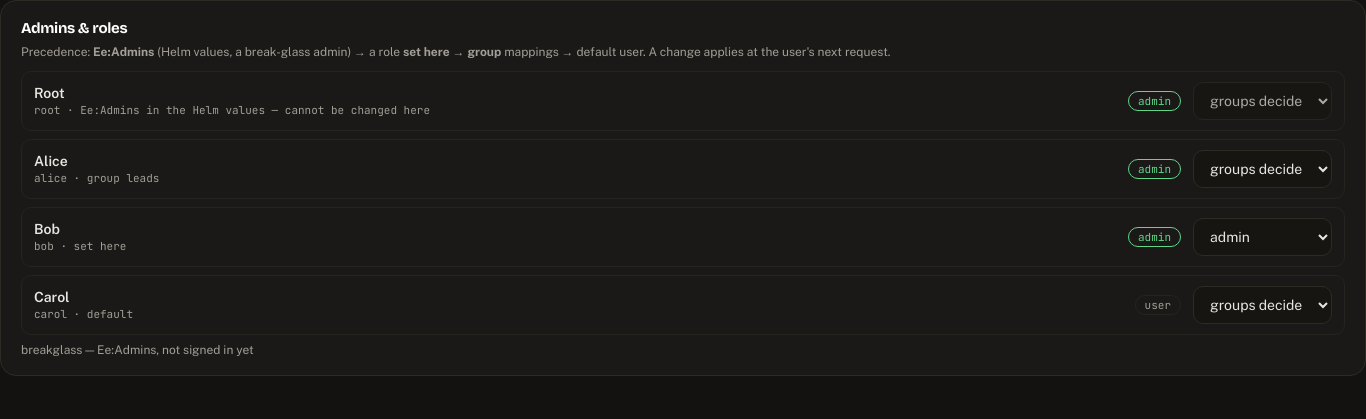
Test: UserRolesCard › makes a user an admin and shows the audit entry
The width and height of the screenshot is (1366, 419).
Select "admin" in the dropdown in the row of "carol · default". click: (1262, 305)
box: [1193,286,1332,324]
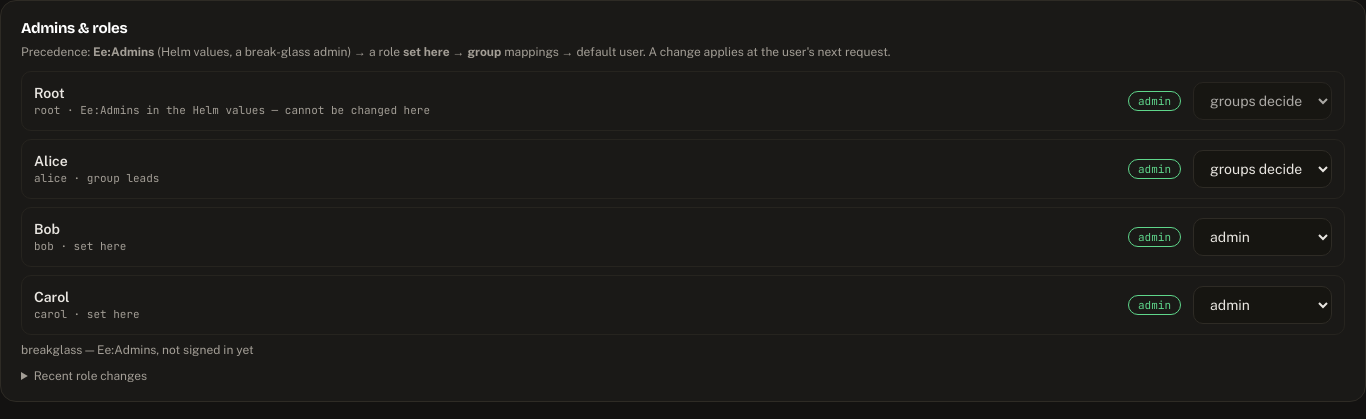
Check: the text "admin" in the row of "carol · set here" is shown, box [1138,298,1171,312]
